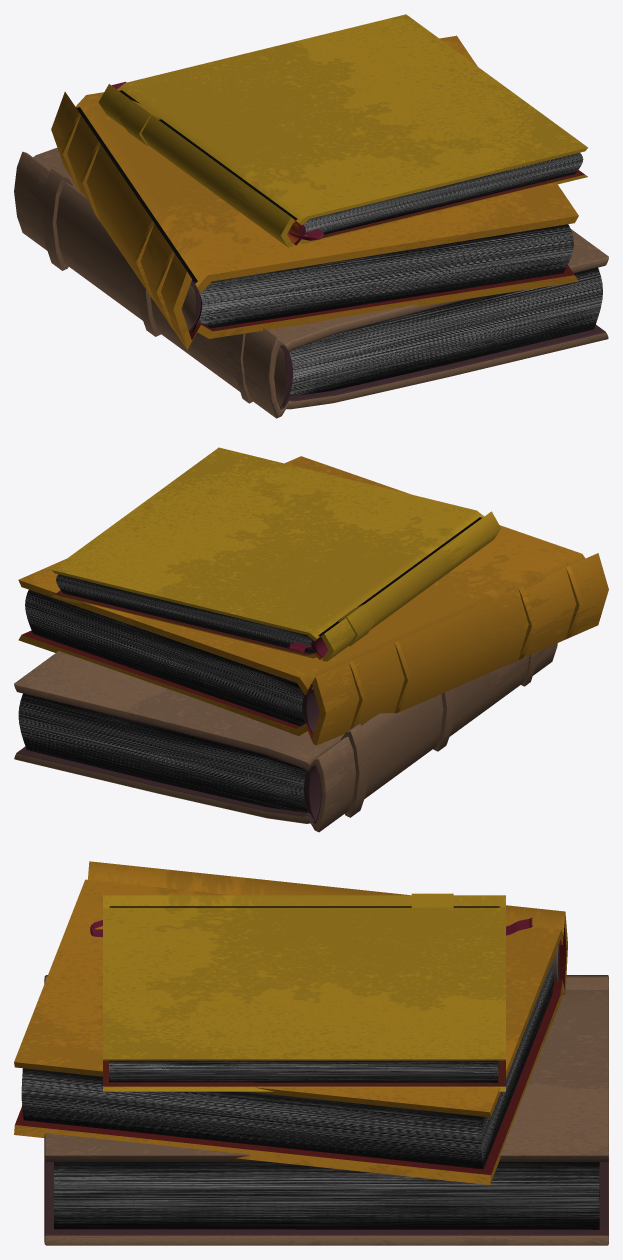
File: ThreeBookStack.fbx
3 renders of one model, top to bottom at view 1: azimuth 30°, elevation 25°; view 2: azimuth 150°, elevation 25°; view 3: azimuth 270°, elevation 25°, orthographic. The views are drawn at different scales.
Parts seen in each view (by area): view 1: pCube13, pCube15, pCube71, pages11, pages13, pages12, spine13, spine2; view 2: pCube13, pCube15, pCube71, pages13, pages11, pages12, spine13, spine2; view 3: pCube13, pCube15, pages13, pCube71, pages11, pages12.
Part boxes in pixels (x1,y1,x2,y2): pCube13: [98, 14, 587, 247]; pCube15: [51, 35, 578, 349]; pCube71: [14, 148, 608, 418]; pages11: [76, 107, 573, 331]; pages13: [289, 267, 602, 396]; pages12: [119, 90, 583, 236]; spine13: [274, 346, 293, 406]; spine2: [181, 281, 201, 330]; pCube13: [52, 447, 501, 661]; pCube15: [18, 456, 608, 745]; pCube71: [14, 643, 557, 832]; pages13: [18, 693, 308, 812]; pages11: [25, 590, 305, 726]; pages12: [56, 517, 481, 653]; spine13: [304, 766, 320, 820]; spine2: [302, 687, 319, 732]; pCube13: [103, 893, 505, 1091]; pCube15: [14, 861, 567, 1184]; pages13: [54, 1162, 599, 1229]; pCube71: [44, 975, 608, 1245]; pages11: [21, 959, 553, 1169]; pages12: [109, 906, 499, 1082].
Bounding box in the file's own units: 0.8708 × 0.3242 × 0.8747.
